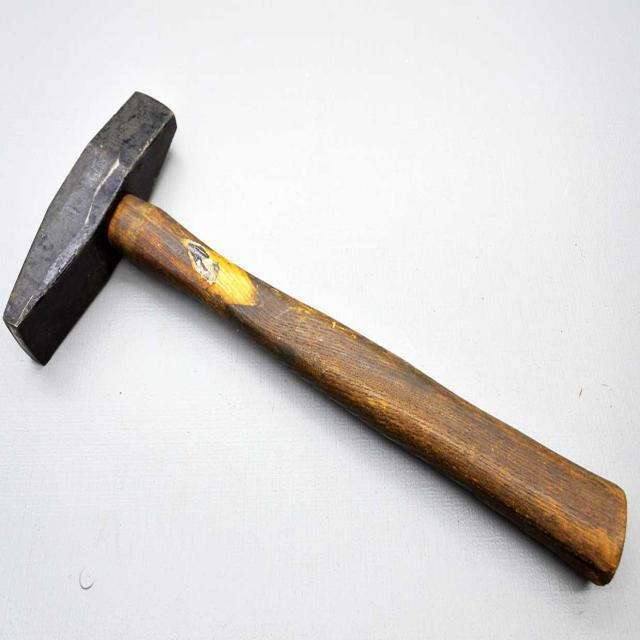hammer: (0, 81, 626, 592)
